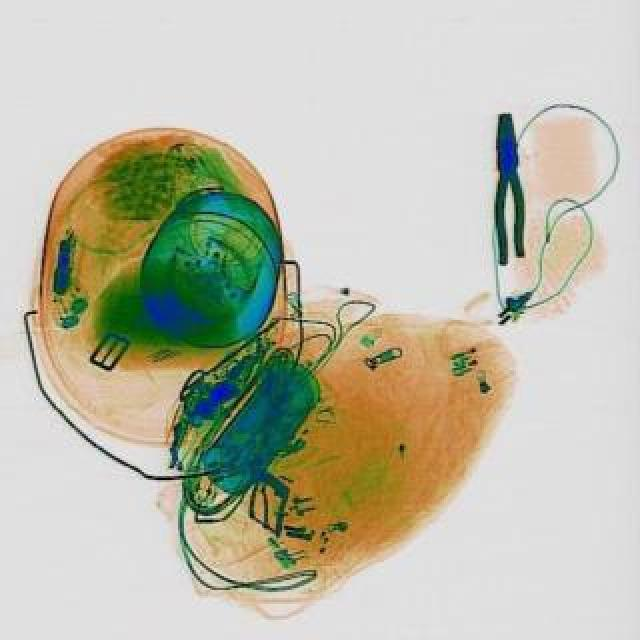wrench: (488, 116, 532, 268)
